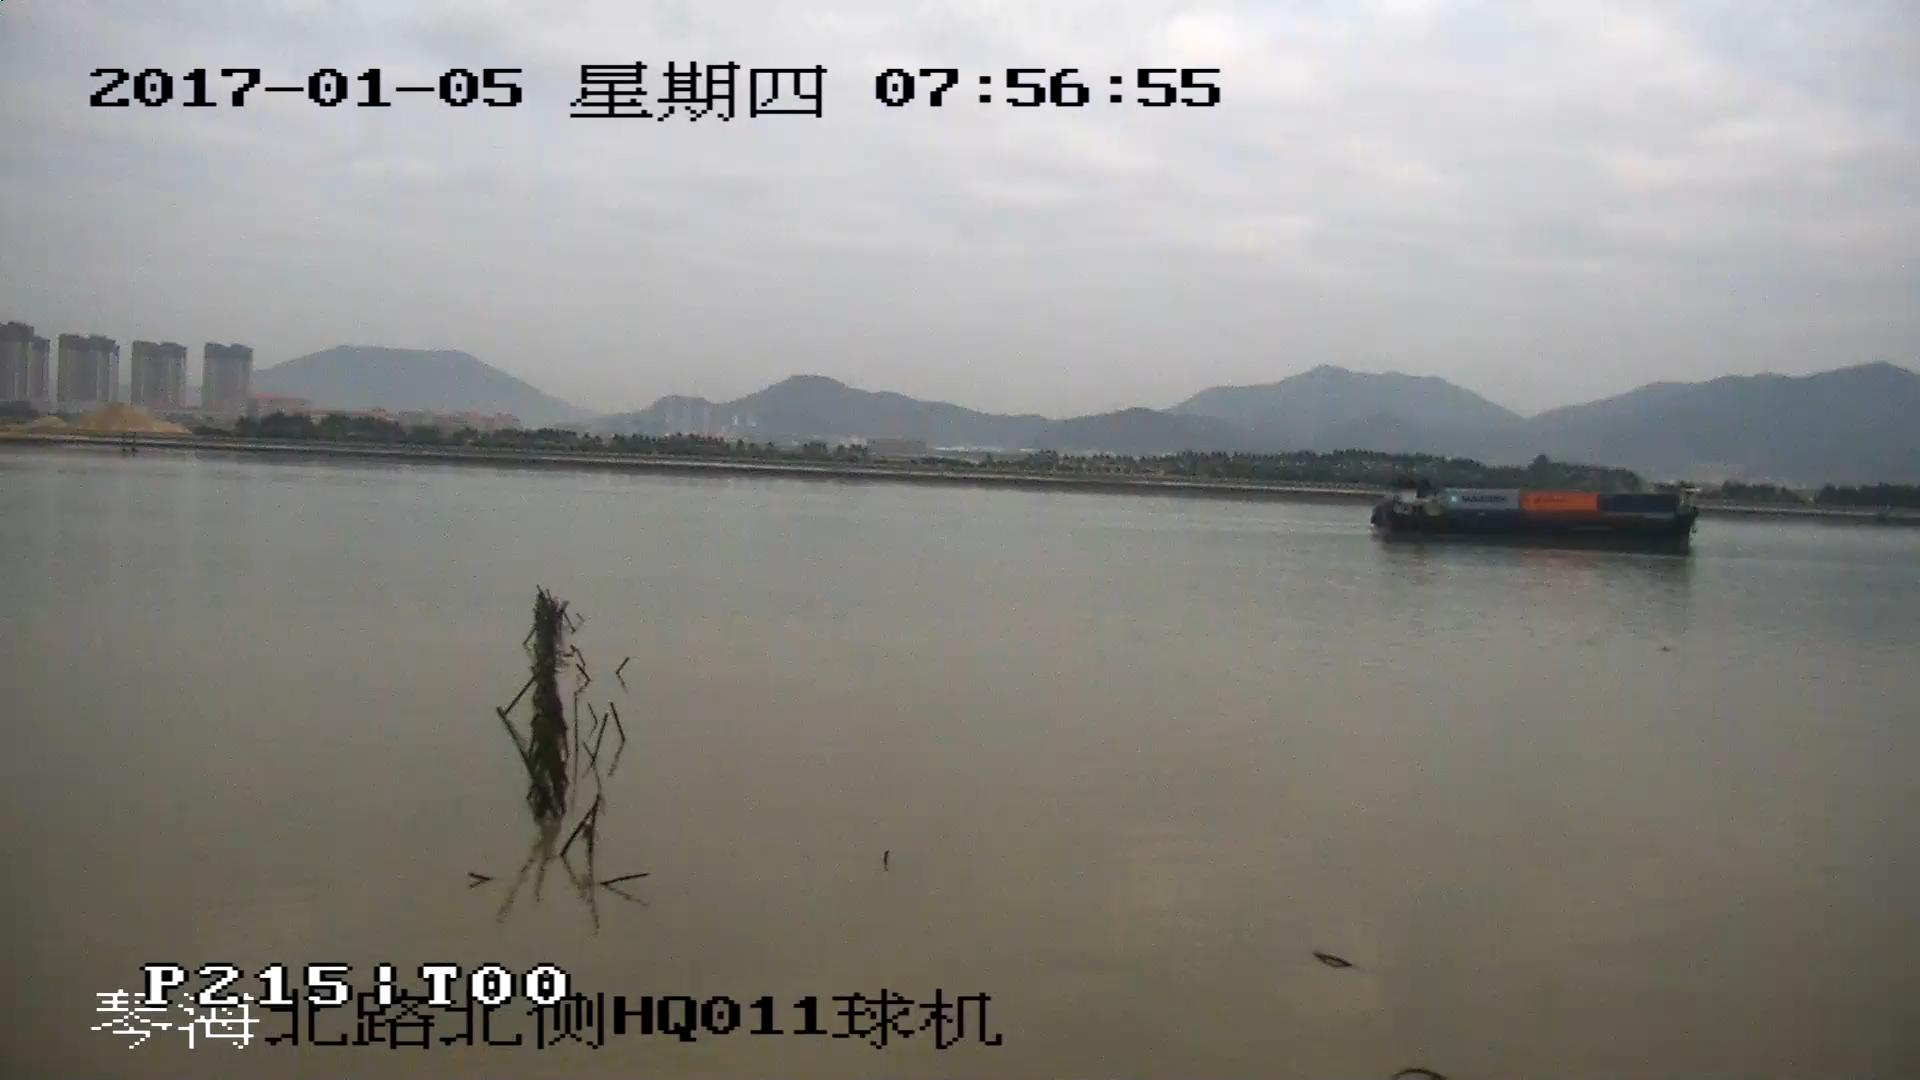container ship: (1374, 486, 1699, 548)
